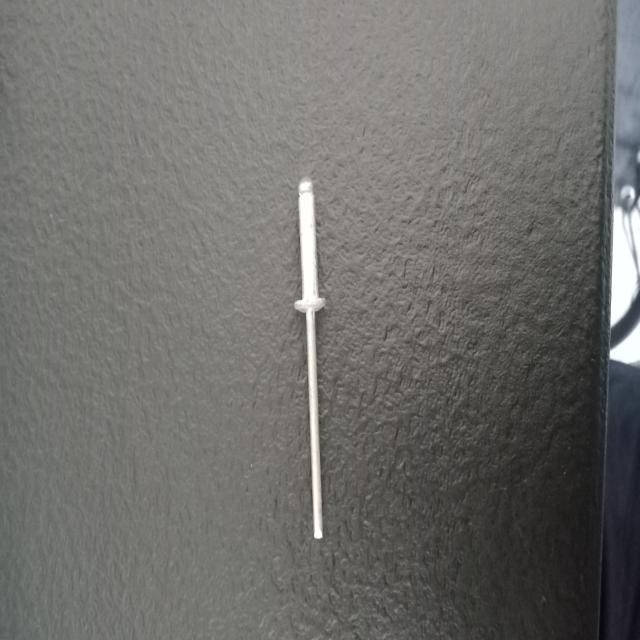rivet: (294, 177, 326, 540)
